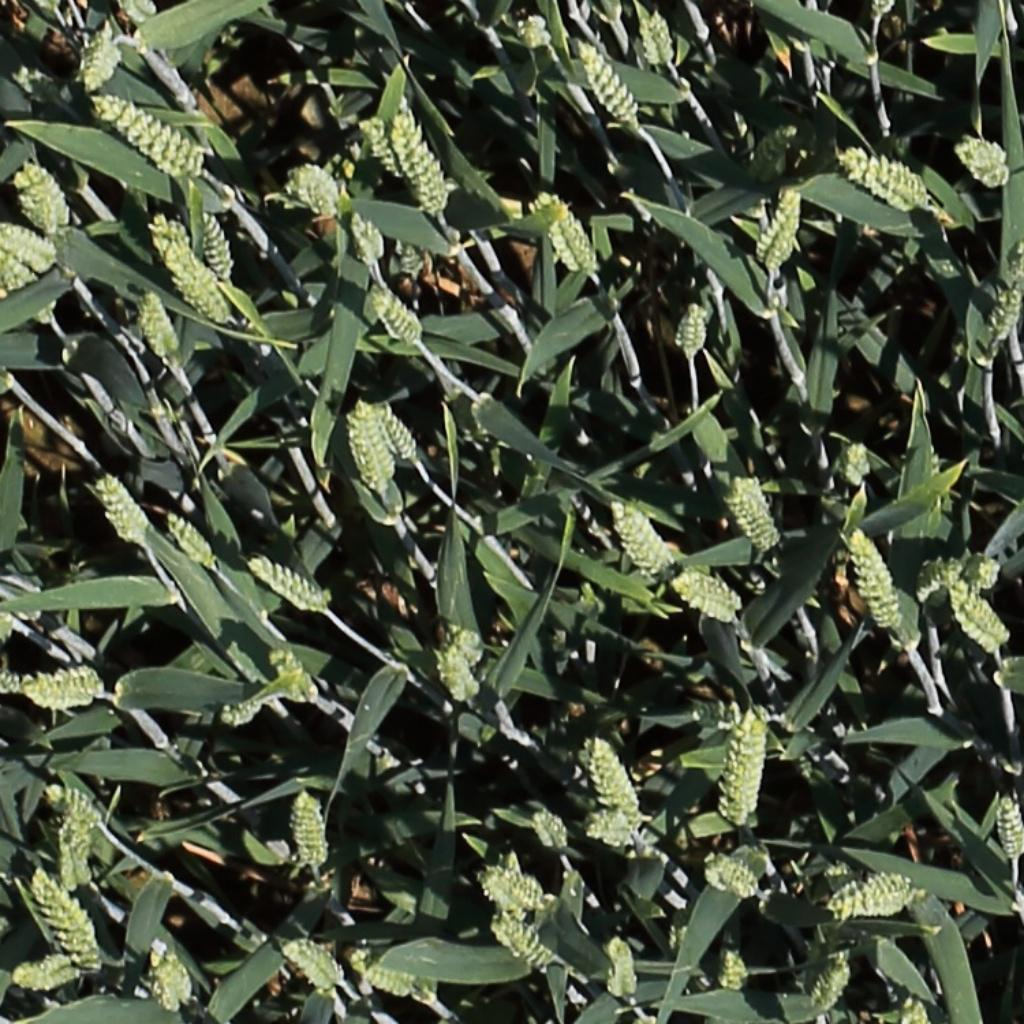0-0: (92, 91, 207, 186), (28, 865, 102, 972), (152, 226, 230, 324), (0, 652, 104, 718), (573, 36, 645, 131), (390, 106, 449, 215), (847, 525, 905, 632), (608, 496, 674, 582), (827, 868, 919, 922), (540, 191, 599, 275), (838, 148, 928, 202), (944, 576, 1011, 648), (248, 557, 330, 613), (95, 469, 151, 550), (755, 181, 805, 270), (729, 477, 785, 555), (733, 715, 768, 838), (13, 157, 70, 232), (352, 397, 397, 491), (288, 781, 332, 877), (987, 235, 1024, 349), (159, 506, 219, 573), (746, 116, 804, 185), (356, 109, 409, 182), (670, 566, 741, 619), (367, 282, 425, 345), (951, 133, 1009, 196), (370, 398, 425, 464), (137, 283, 181, 365), (488, 911, 552, 967), (146, 937, 192, 1014), (272, 643, 326, 708), (197, 203, 237, 286), (281, 939, 342, 993), (812, 947, 857, 1019), (79, 23, 121, 95), (57, 818, 96, 895), (686, 697, 769, 733), (439, 637, 479, 711), (51, 770, 113, 816), (289, 162, 342, 215), (0, 252, 43, 316), (476, 871, 542, 912), (348, 207, 386, 274), (669, 296, 708, 360), (707, 857, 763, 901), (916, 557, 965, 607), (529, 808, 573, 860), (0, 223, 57, 263), (608, 931, 638, 1003), (643, 5, 675, 72), (579, 810, 641, 843), (992, 791, 1022, 859), (893, 991, 950, 1024), (823, 857, 869, 897), (497, 853, 526, 913), (845, 434, 873, 494), (720, 942, 749, 999), (970, 550, 1002, 600), (363, 968, 417, 993), (522, 9, 550, 57), (12, 966, 79, 985)
